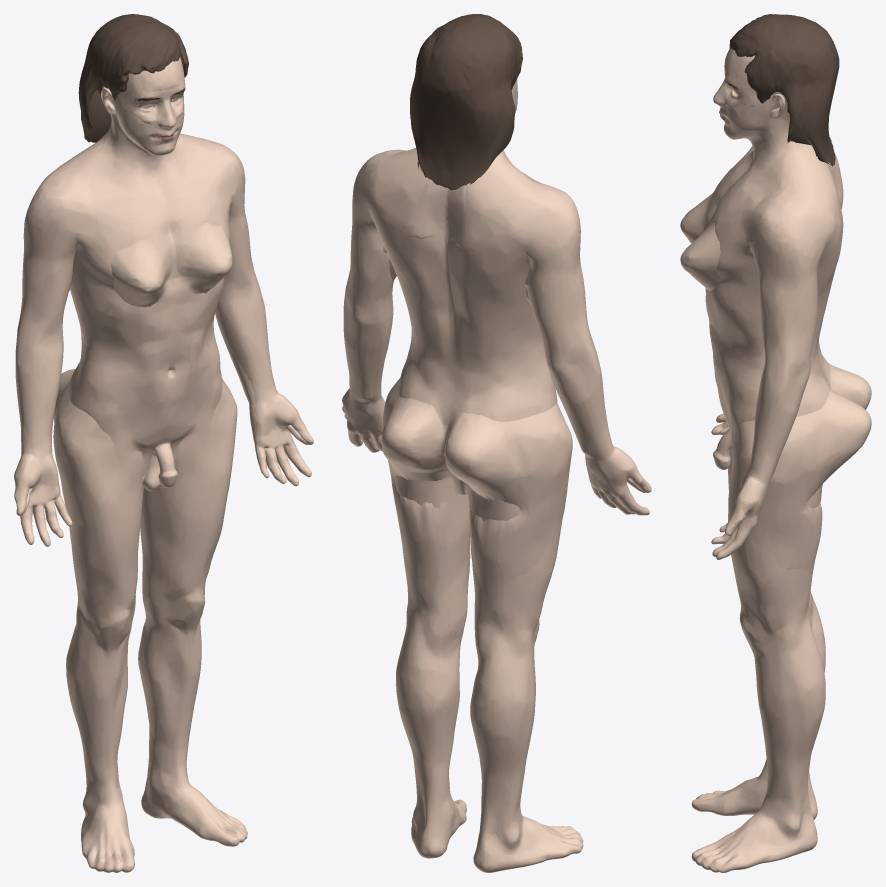
The model's file is skin.glb.
The picture shows the model from 3 angles, left to right: view 1: azimuth 30°, elevation 25°; view 2: azimuth 150°, elevation 25°; view 3: azimuth 270°, elevation 25°; orthographic projection. The views are drawn at different scales.
Visible parts, largest first — view 1: Skin (×2), Hair of head; view 2: Skin (×2), Hair of head; view 3: Skin (×2), Hair of head.
Boxes of the visible parts, <box> form: Skin (×2): <box>14,57,313,872</box>; Hair of head: <box>78,14,188,142</box>; Skin (×2): <box>342,79,651,872</box>; Hair of head: <box>410,14,522,190</box>; Skin (×2): <box>680,48,871,872</box>; Hair of head: <box>729,14,839,166</box>.
Size of the model in its own units: 0.6667 by 1.74 by 0.3686.
